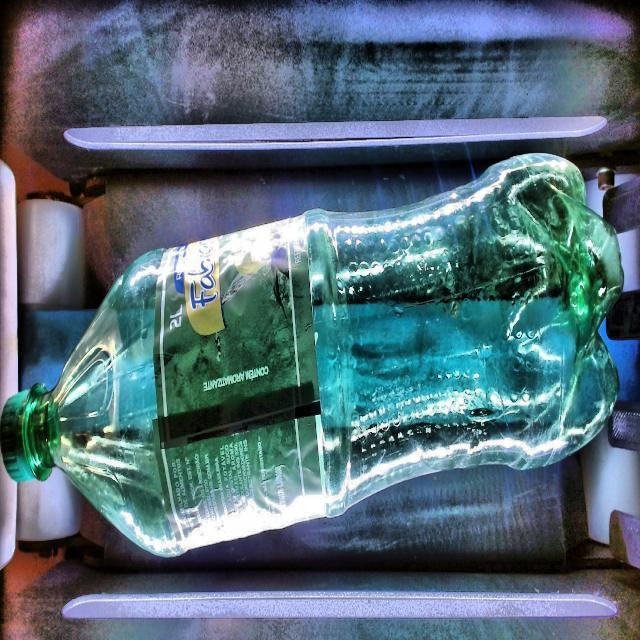bottom: (454, 143, 630, 479)
cap: (0, 390, 35, 482)
label: (154, 216, 324, 549)
neck: (0, 251, 175, 556)
